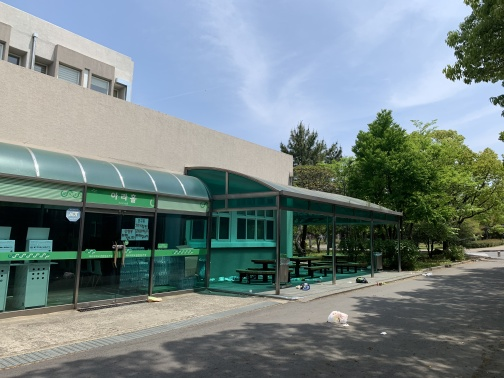Ara Hall: (2, 138, 408, 320)
